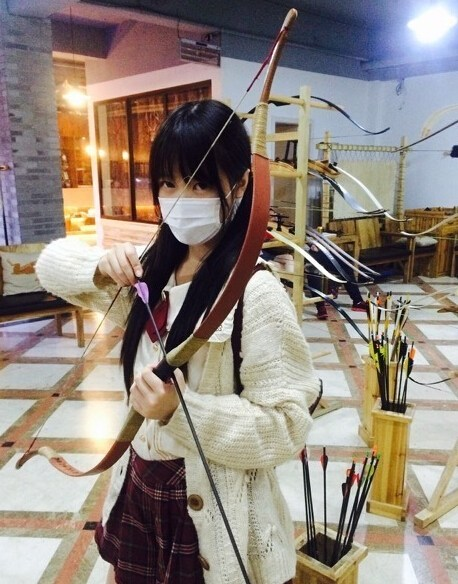face_mask: (158, 147, 224, 247)
